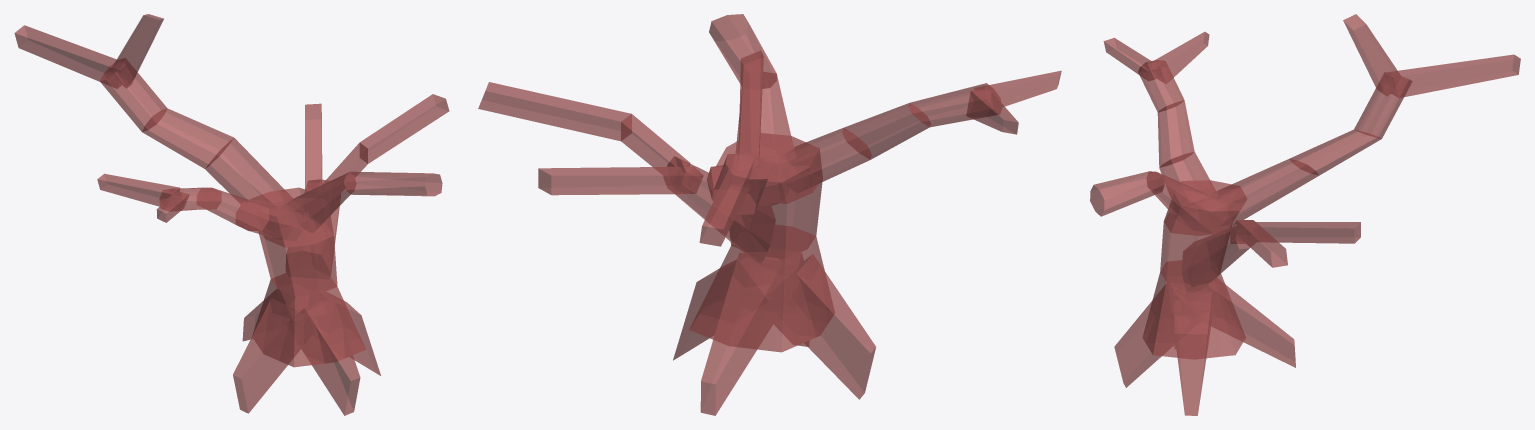
Rendered from SM_Env_Tree_Maple_01_Collision.fbx.
3 views of the same model, side by side, from view 1: azimuth 30°, elevation 25°; view 2: azimuth 150°, elevation 25°; view 3: azimuth 270°, elevation 25° (orthographic). The views are drawn at different scales.
Parts seen in each view (by area): view 1: SM_Env_Tree_Maple_01_Collision; view 2: SM_Env_Tree_Maple_01_Collision; view 3: SM_Env_Tree_Maple_01_Collision.
Part boxes in pixels (x1=…): SM_Env_Tree_Maple_01_Collision: x1=14, y1=14, x2=449, y2=415; SM_Env_Tree_Maple_01_Collision: x1=478, y1=14, x2=1061, y2=415; SM_Env_Tree_Maple_01_Collision: x1=1090, y1=14, x2=1520, y2=415.
Size of the model in its own units: 1062 by 878 by 1042.
